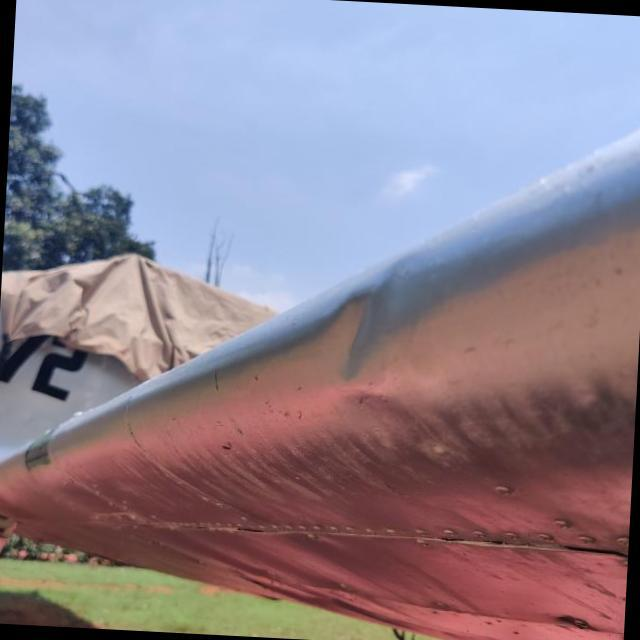Dent: (292, 252, 422, 410)
